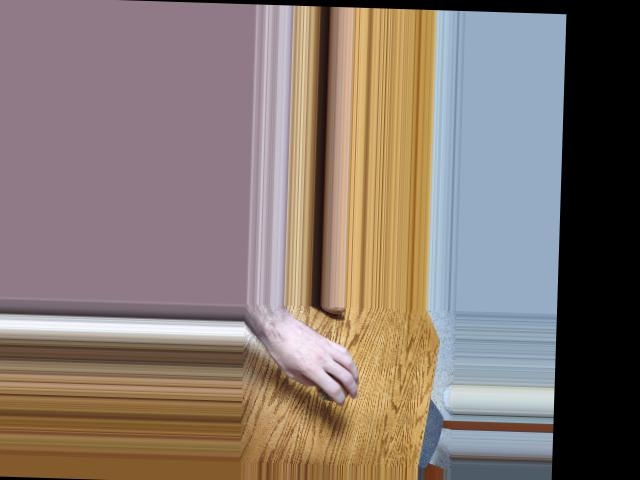onion: (311, 366, 353, 402)
